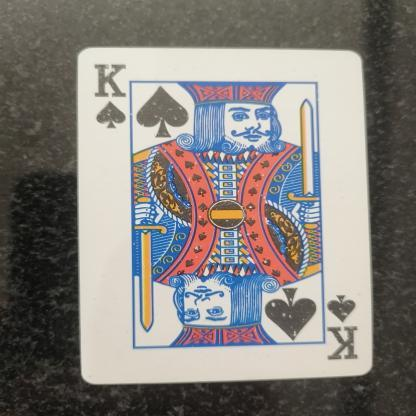KS: (320, 284, 374, 374), (81, 58, 138, 135)
